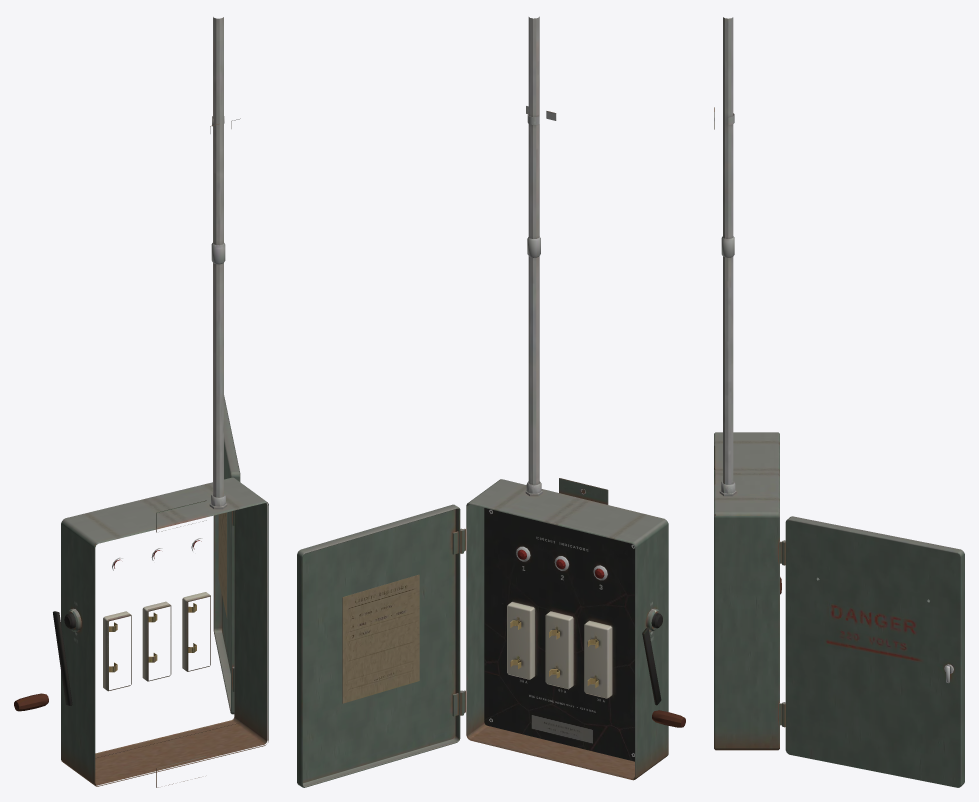
Rendered from fusebox.glb.
The picture shows the model from 3 angles, left to right: view 1: azimuth 30°, elevation 25°; view 2: azimuth 150°, elevation 25°; view 3: azimuth 270°, elevation 25°; orthographic projection. The views are drawn at different scales.
Parts seen in each view (by area): view 1: fusebox_body, fusebox_door, lever; view 2: fusebox_body, fusebox_door, lever; view 3: fusebox_door, fusebox_body.
Boxes of the visible parts, x1,y1,x2,y2 form: fusebox_body: [61, 17, 268, 787]; fusebox_door: [213, 395, 240, 714]; lever: [14, 611, 75, 711]; fusebox_body: [460, 16, 668, 780]; fusebox_door: [297, 504, 460, 787]; lever: [642, 613, 685, 727]; fusebox_door: [785, 516, 964, 787]; fusebox_body: [714, 17, 785, 750].
Bounding box in the file's own units: 0.7237 × 1.71 × 0.5339.
Materials: 4 (1 with a texture image).
